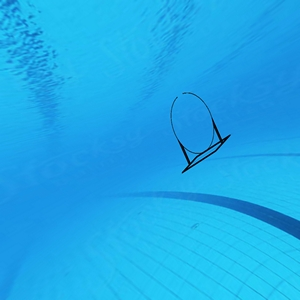circle: (165, 89, 233, 176)
